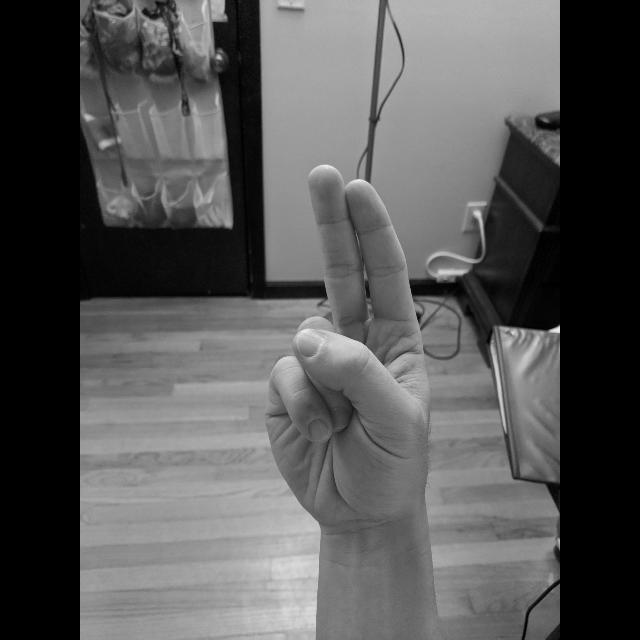U: (260, 160, 440, 532)
